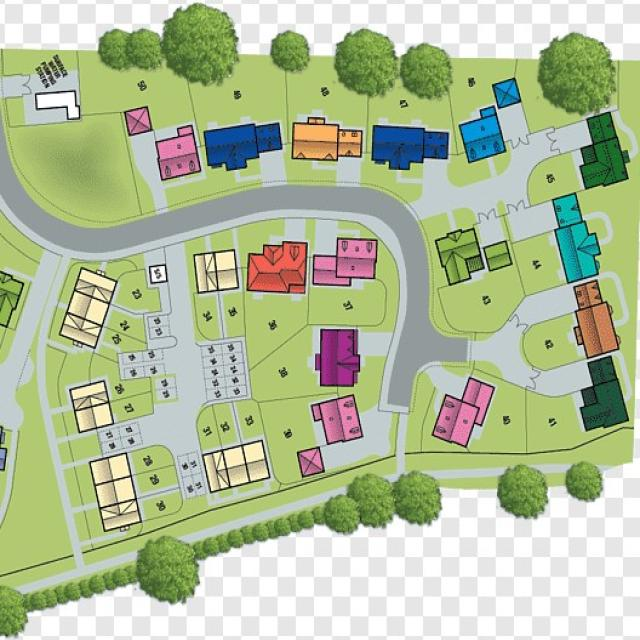greenish: (19, 134, 130, 209), (16, 441, 56, 561), (80, 71, 192, 111), (204, 82, 286, 121), (312, 287, 388, 327), (492, 381, 526, 458), (376, 90, 448, 126), (530, 394, 576, 450), (446, 287, 514, 323), (247, 296, 295, 346), (450, 57, 494, 111), (295, 80, 357, 117), (268, 405, 299, 476), (254, 357, 308, 397), (410, 379, 432, 455), (529, 326, 568, 368), (521, 241, 558, 285), (364, 170, 422, 198), (525, 65, 549, 132), (616, 218, 638, 285), (618, 59, 640, 124), (533, 161, 573, 196), (121, 272, 151, 313), (193, 296, 221, 339), (0, 230, 30, 269), (63, 468, 92, 507), (582, 192, 635, 213), (591, 441, 632, 468), (16, 387, 42, 429), (142, 492, 184, 518), (57, 435, 100, 460), (235, 224, 288, 244), (622, 292, 636, 367), (44, 347, 63, 401), (360, 362, 381, 406), (135, 467, 176, 489), (110, 397, 151, 419), (110, 310, 145, 335), (222, 294, 242, 335), (65, 352, 90, 384), (53, 410, 78, 440), (195, 414, 215, 451), (216, 407, 236, 444), (76, 513, 105, 538), (290, 166, 335, 182), (450, 163, 481, 185), (166, 187, 218, 200), (239, 400, 256, 439), (7, 50, 37, 71), (132, 451, 172, 466), (96, 351, 120, 375), (109, 378, 141, 396), (6, 98, 27, 125), (105, 332, 135, 350), (424, 215, 452, 232), (454, 208, 476, 227)
